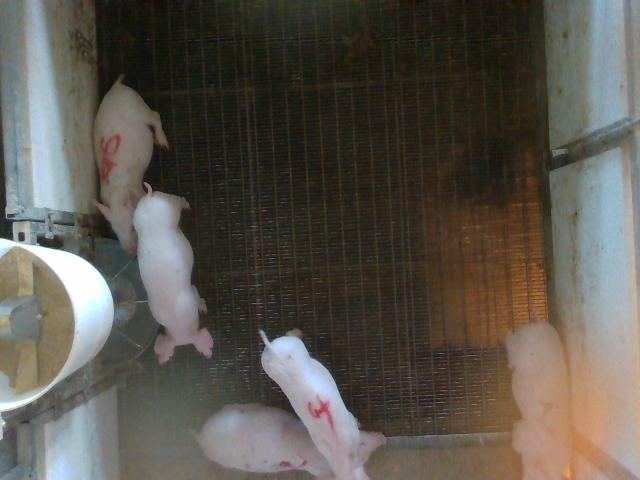pig-2: (506, 320, 570, 479)
pig-3: (194, 404, 332, 476)
pig-4: (261, 330, 368, 479)
pig-5: (94, 75, 169, 254)
